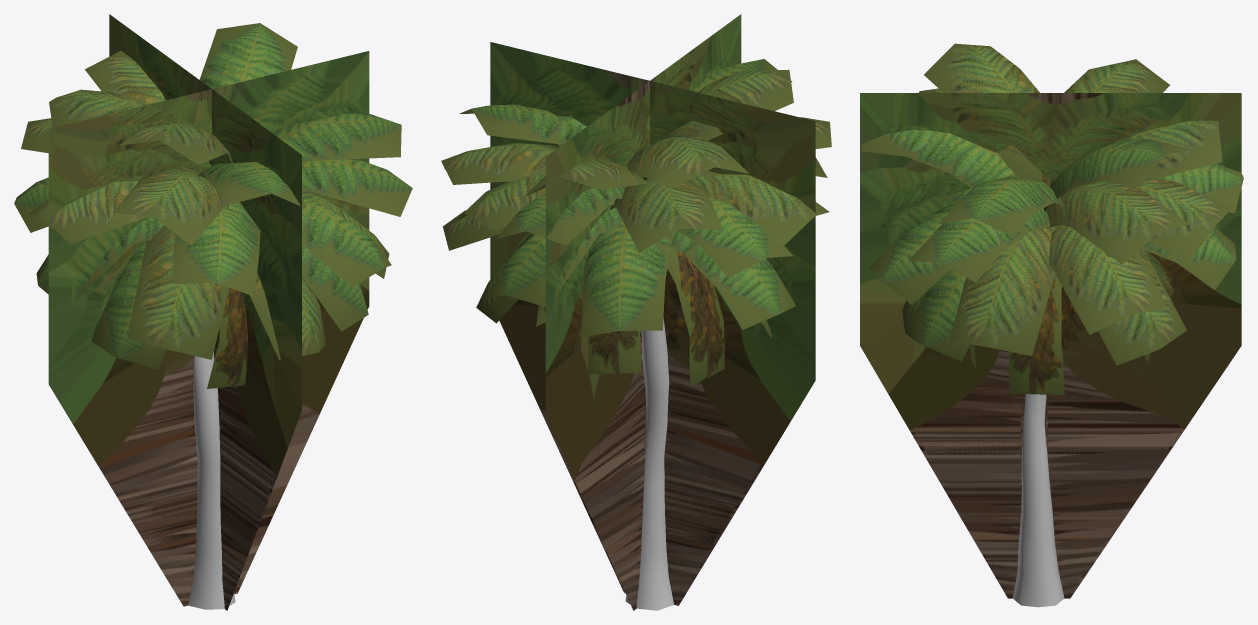
File: Alsophila2.fbx
3 views of the same model, side by side, from view 1: azimuth 30°, elevation 25°; view 2: azimuth 150°, elevation 25°; view 3: azimuth 270°, elevation 25° (orthographic). The views are drawn at different scales.
Visible parts, largest first — view 1: Billboard, LOD0; view 2: Billboard, LOD0; view 3: Billboard, LOD0.
Part boxes in pixels (bbox=[...]): Billboard: bbox=[48, 14, 369, 610]; LOD0: bbox=[14, 23, 412, 609]; Billboard: bbox=[490, 14, 815, 610]; LOD0: bbox=[441, 59, 831, 610]; Billboard: bbox=[860, 93, 1241, 598]; LOD0: bbox=[860, 43, 1243, 607].
Size of what is drawn, in the model's own units: 289 by 426 by 291.
